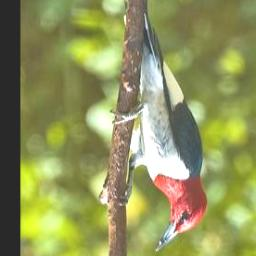Woodpecker: (111, 3, 209, 251)
